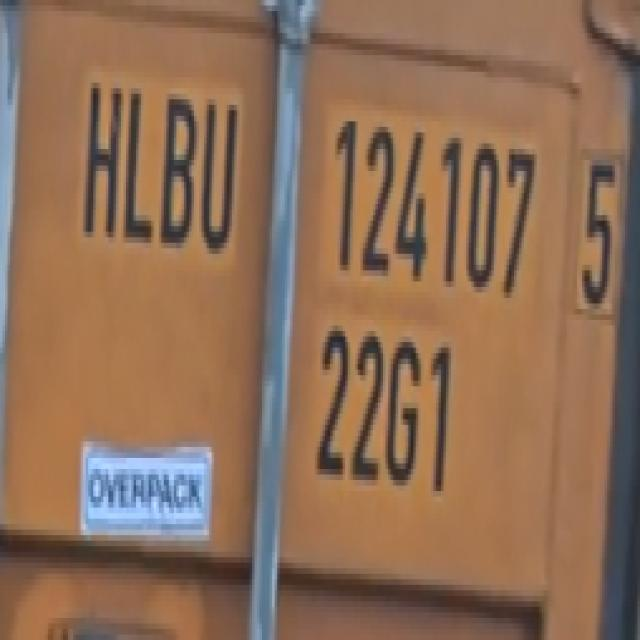dv: (570, 143, 625, 324)
owner: (70, 66, 254, 284)
serial: (324, 97, 539, 297)
size: (304, 314, 469, 504)
